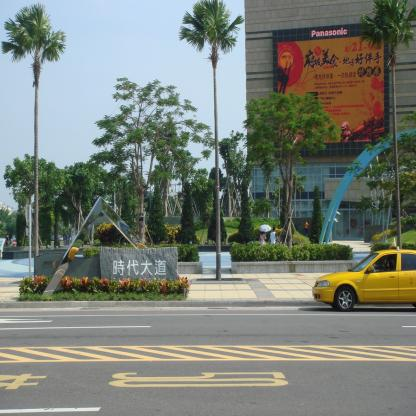Car: (312, 243, 416, 315)
